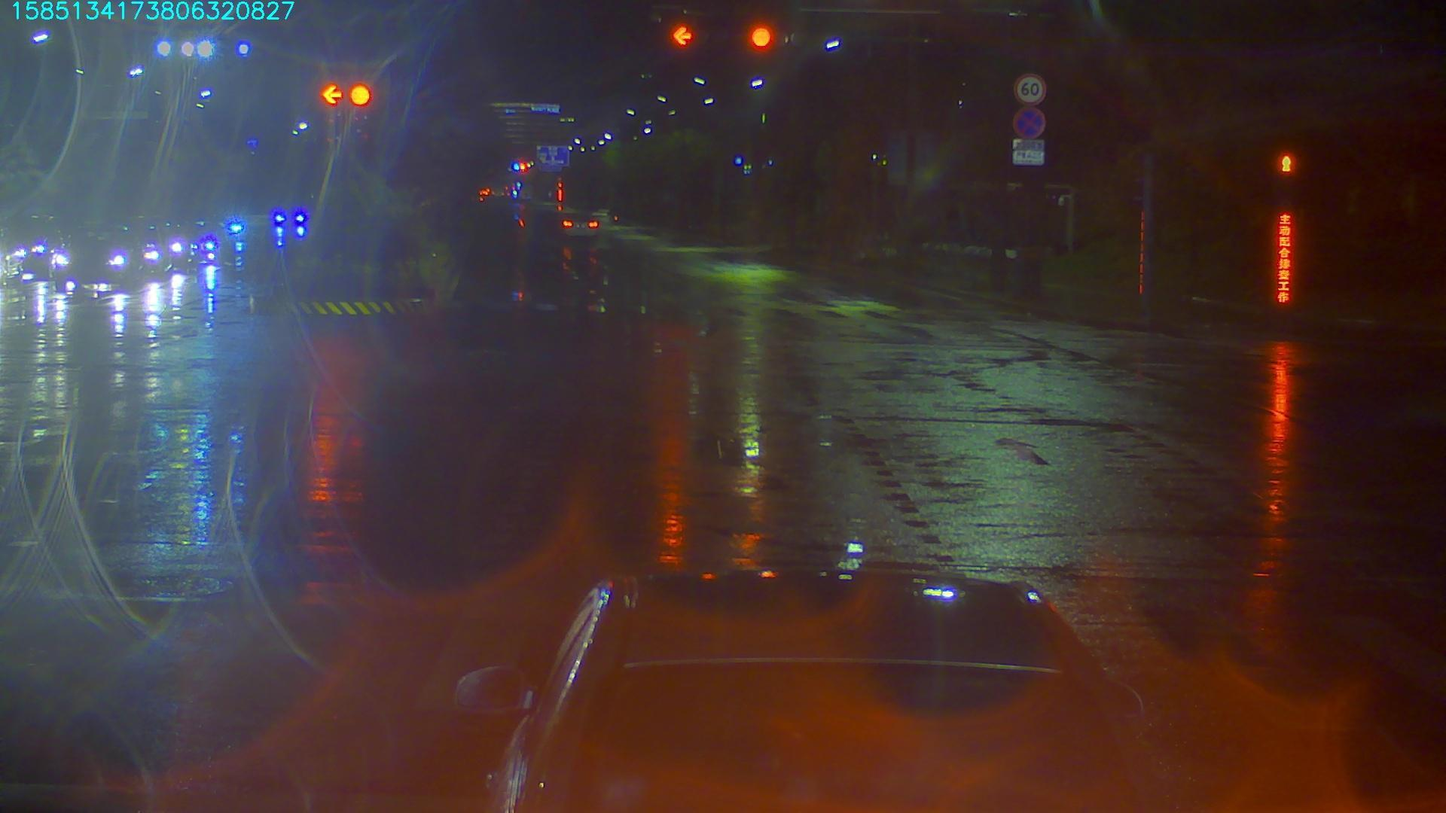red: (660, 12, 695, 52), (742, 24, 780, 54)
